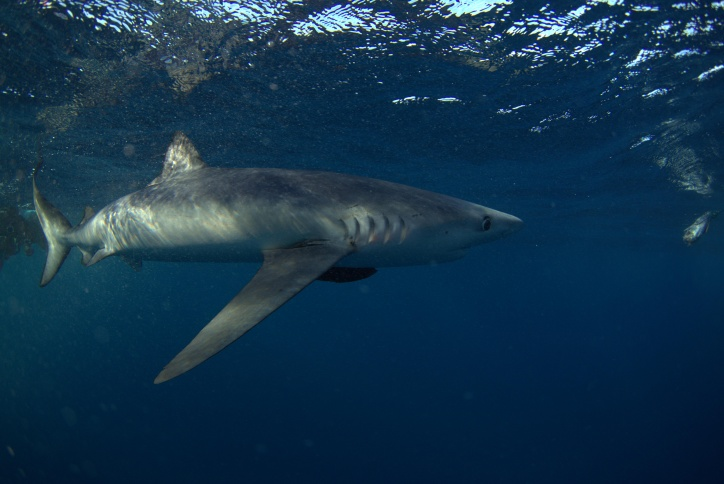Azul: (24, 113, 532, 392)
